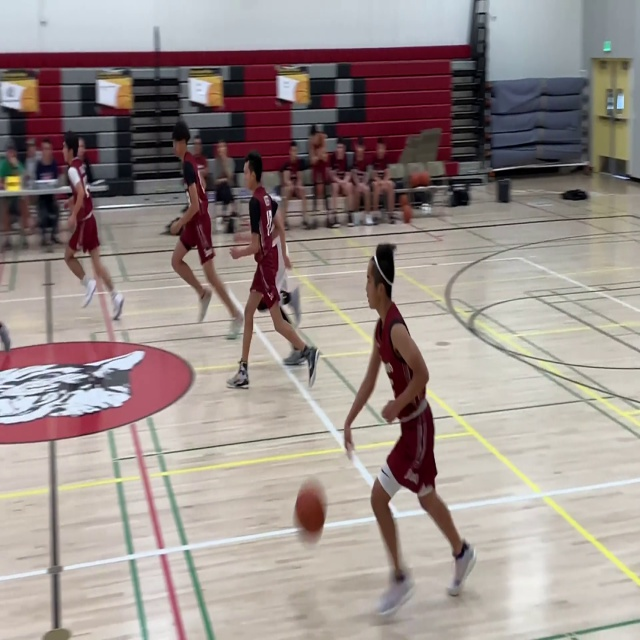Basketball: (293, 478, 327, 533)
